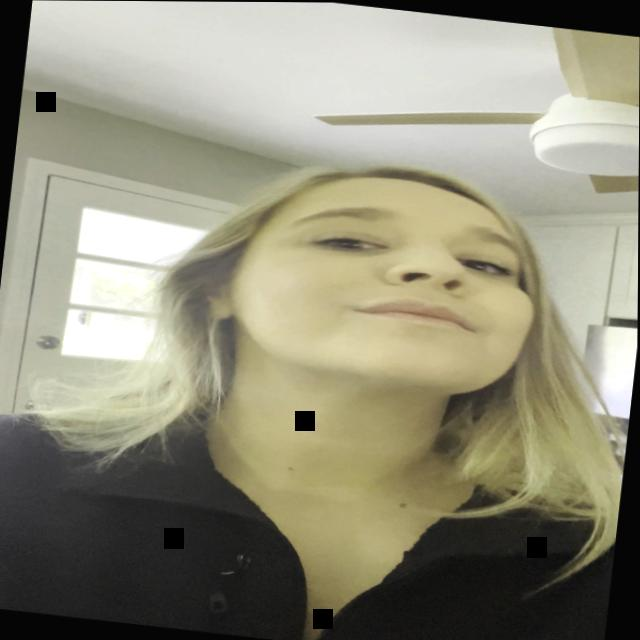NO-Mask: (189, 138, 582, 437)
